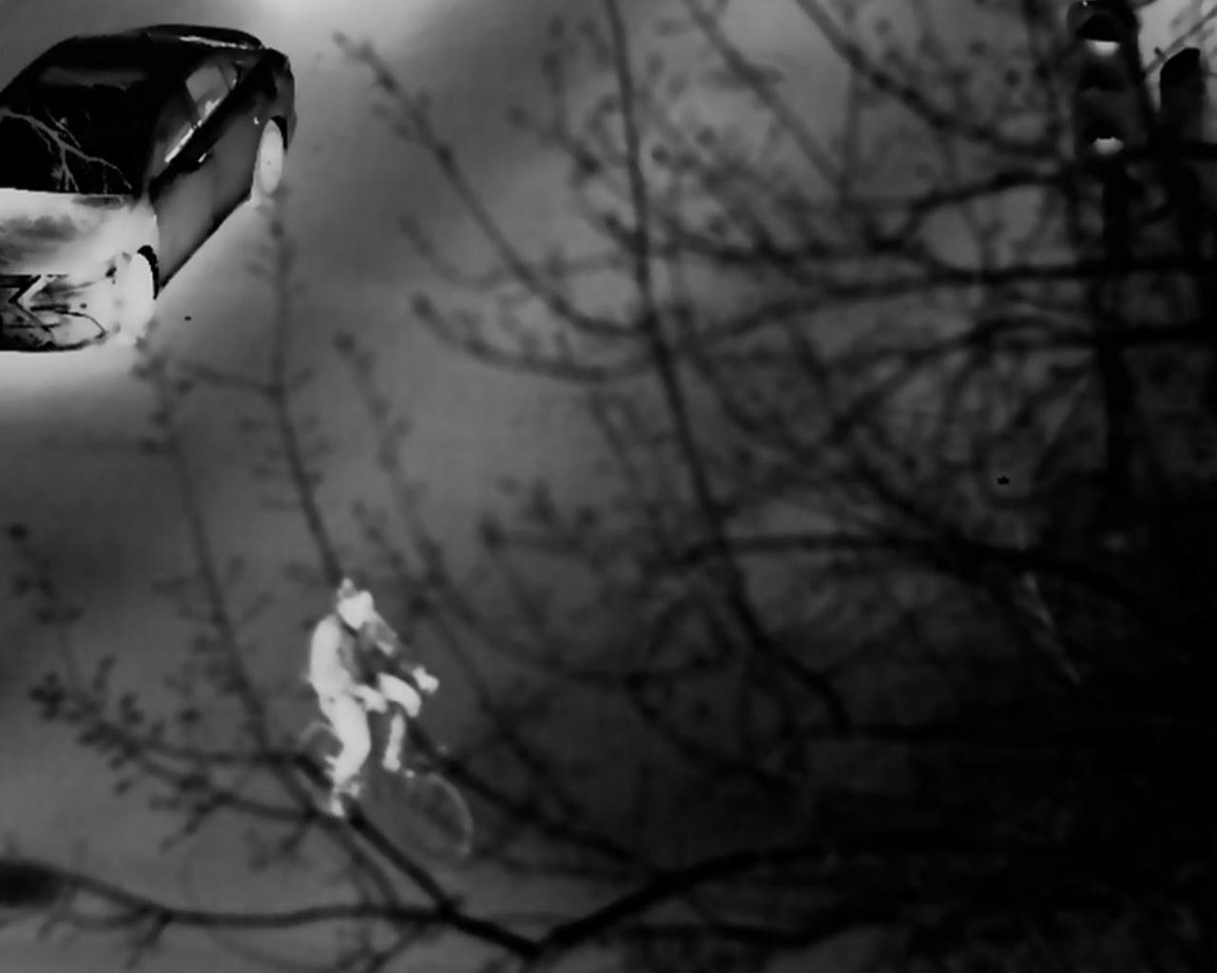person: (309, 575, 433, 809)
